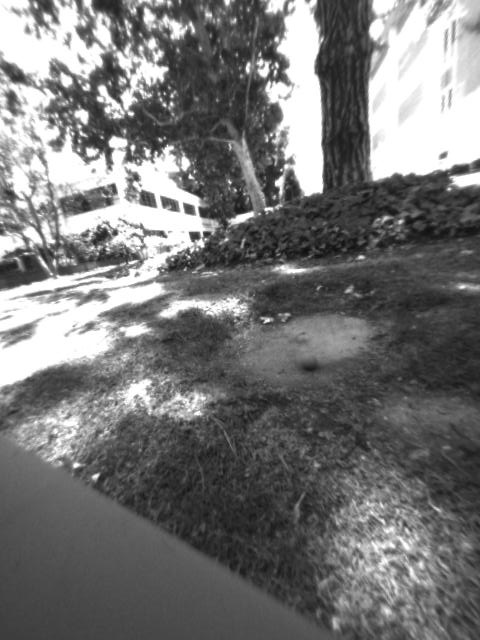dogtoy: (292, 346, 335, 380)
